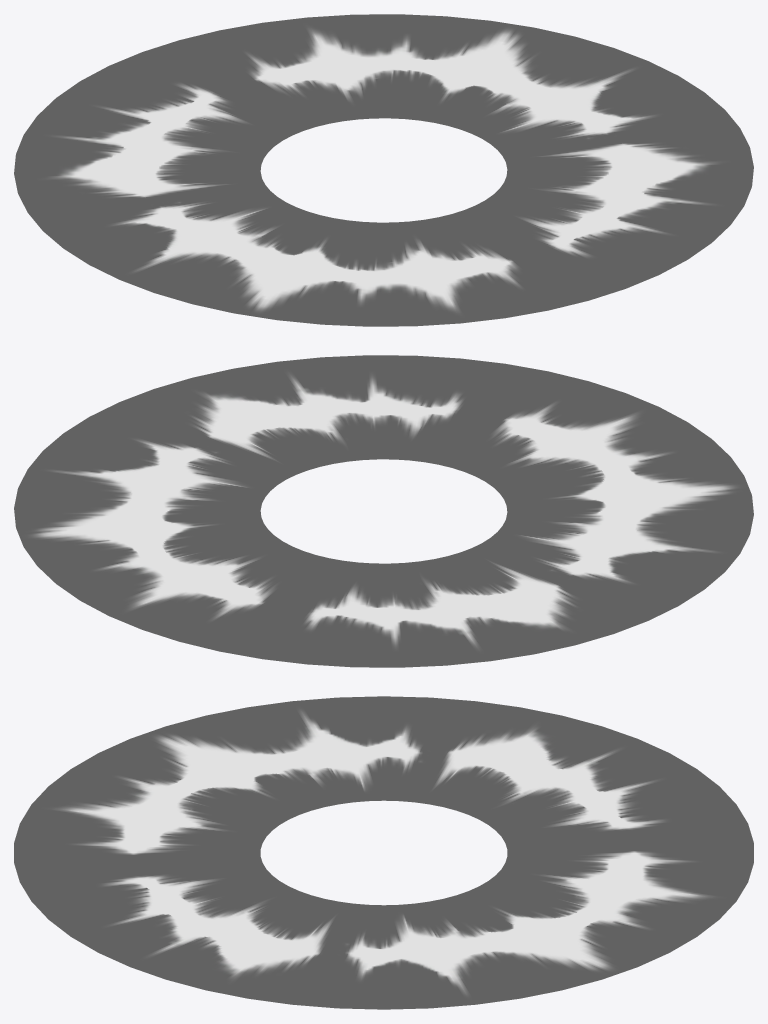
Rendered from eff_rig001_mesh.fbx.
3 views of the same model, one above another, from view 1: azimuth 30°, elevation 25°; view 2: azimuth 150°, elevation 25°; view 3: azimuth 270°, elevation 25° (orthographic).
Visible parts, largest first — view 1: eff_rig001_mesh; view 2: eff_rig001_mesh; view 3: eff_rig001_mesh.
Boxes of the visible parts, x1,y1,x2,y2 form: eff_rig001_mesh: (14, 14, 753, 326); eff_rig001_mesh: (14, 355, 753, 667); eff_rig001_mesh: (14, 696, 753, 1009).
Size of the model in its own units: 142 by 0 by 142.
